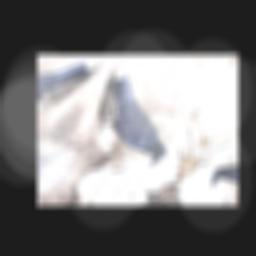Crow: (65, 72, 204, 169)
